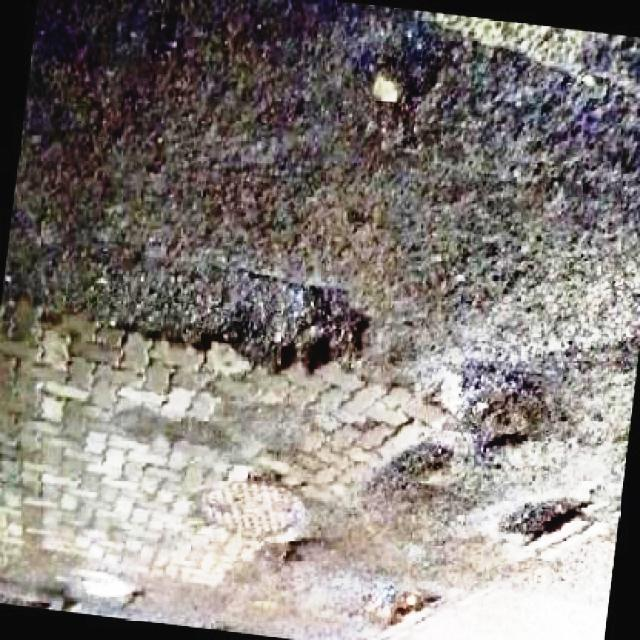pothole: (106, 271, 380, 372), (444, 356, 582, 456), (350, 28, 452, 152), (494, 488, 608, 558), (366, 582, 445, 632)
